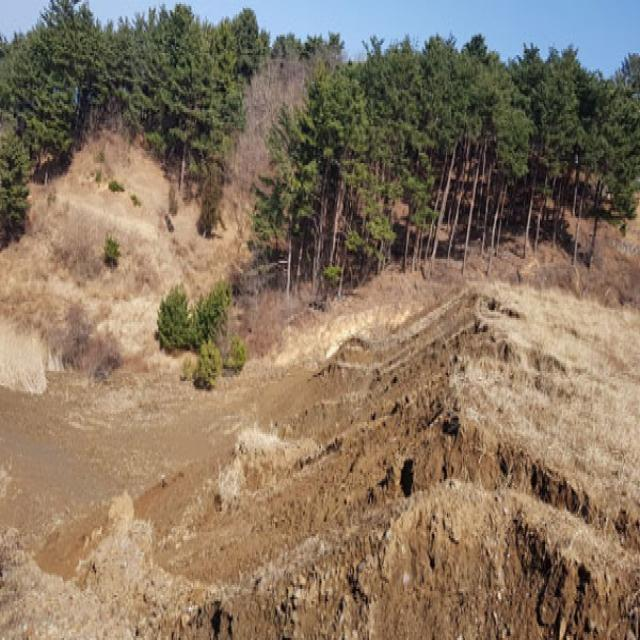red-sand: (0, 281, 639, 638)
white-sand: (252, 271, 466, 369)
